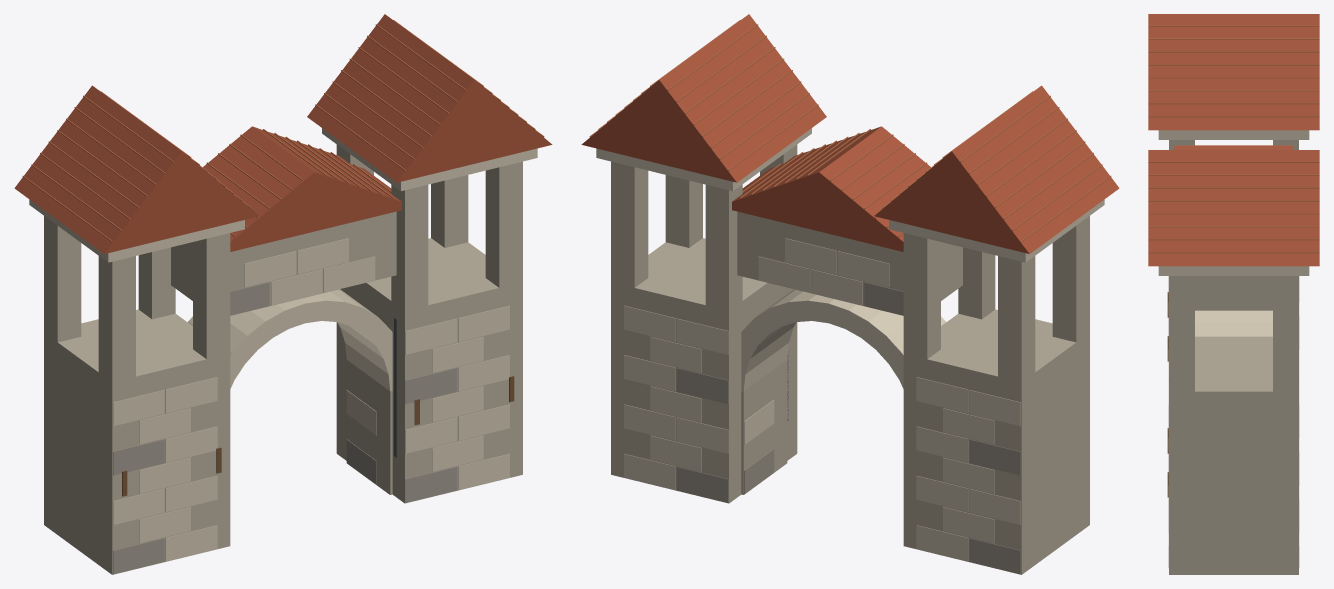
Rendered from 03_gatehouse.glb.
3 views of the same model, side by side, from view 1: azimuth 30°, elevation 25°; view 2: azimuth 150°, elevation 25°; view 3: azimuth 270°, elevation 25° (orthographic). The views are drawn at different scales.
Parts seen in each view (by area): view 1: 03_gatehouse_stone, 03_gatehouse_roof, 03_gatehouse_ashlar_nocol, 03_gatehouse_ashlar, 03_gatehouse_mortar_nocol, 03_gatehouse_rooflight_nocol; view 2: 03_gatehouse_stone, 03_gatehouse_roof, 03_gatehouse_ashlar_nocol, 03_gatehouse_ashlar, 03_gatehouse_mortar_nocol, 03_gatehouse_rooflight_nocol; view 3: 03_gatehouse_roof, 03_gatehouse_stone, 03_gatehouse_rooflight_nocol, 03_gatehouse_ashlar, 03_gatehouse_ashlar_nocol.
Boxes of the visible parts, x1,y1,x2,y2 form: 03_gatehouse_stone: (44, 144, 522, 574); 03_gatehouse_roof: (14, 14, 552, 253); 03_gatehouse_ashlar_nocol: (113, 238, 509, 561); 03_gatehouse_ashlar: (29, 128, 537, 391); 03_gatehouse_mortar_nocol: (113, 282, 457, 574); 03_gatehouse_rooflight_nocol: (22, 20, 544, 242); 03_gatehouse_stone: (611, 144, 1089, 574); 03_gatehouse_roof: (581, 14, 1119, 253); 03_gatehouse_ashlar_nocol: (624, 238, 1020, 561); 03_gatehouse_ashlar: (596, 128, 1104, 391); 03_gatehouse_mortar_nocol: (676, 282, 1020, 574); 03_gatehouse_rooflight_nocol: (589, 20, 1111, 242); 03_gatehouse_roof: (1148, 14, 1319, 266); 03_gatehouse_stone: (1169, 140, 1298, 574); 03_gatehouse_rooflight_nocol: (1148, 25, 1319, 253); 03_gatehouse_ashlar: (1158, 130, 1309, 336); 03_gatehouse_ashlar_nocol: (1168, 276, 1299, 567).
Bounding box in the file's own units: 95 × 84.5 × 33.
